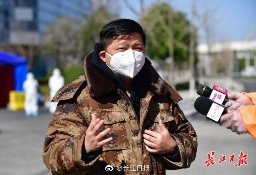correctlyWear: (97, 35, 146, 78)
